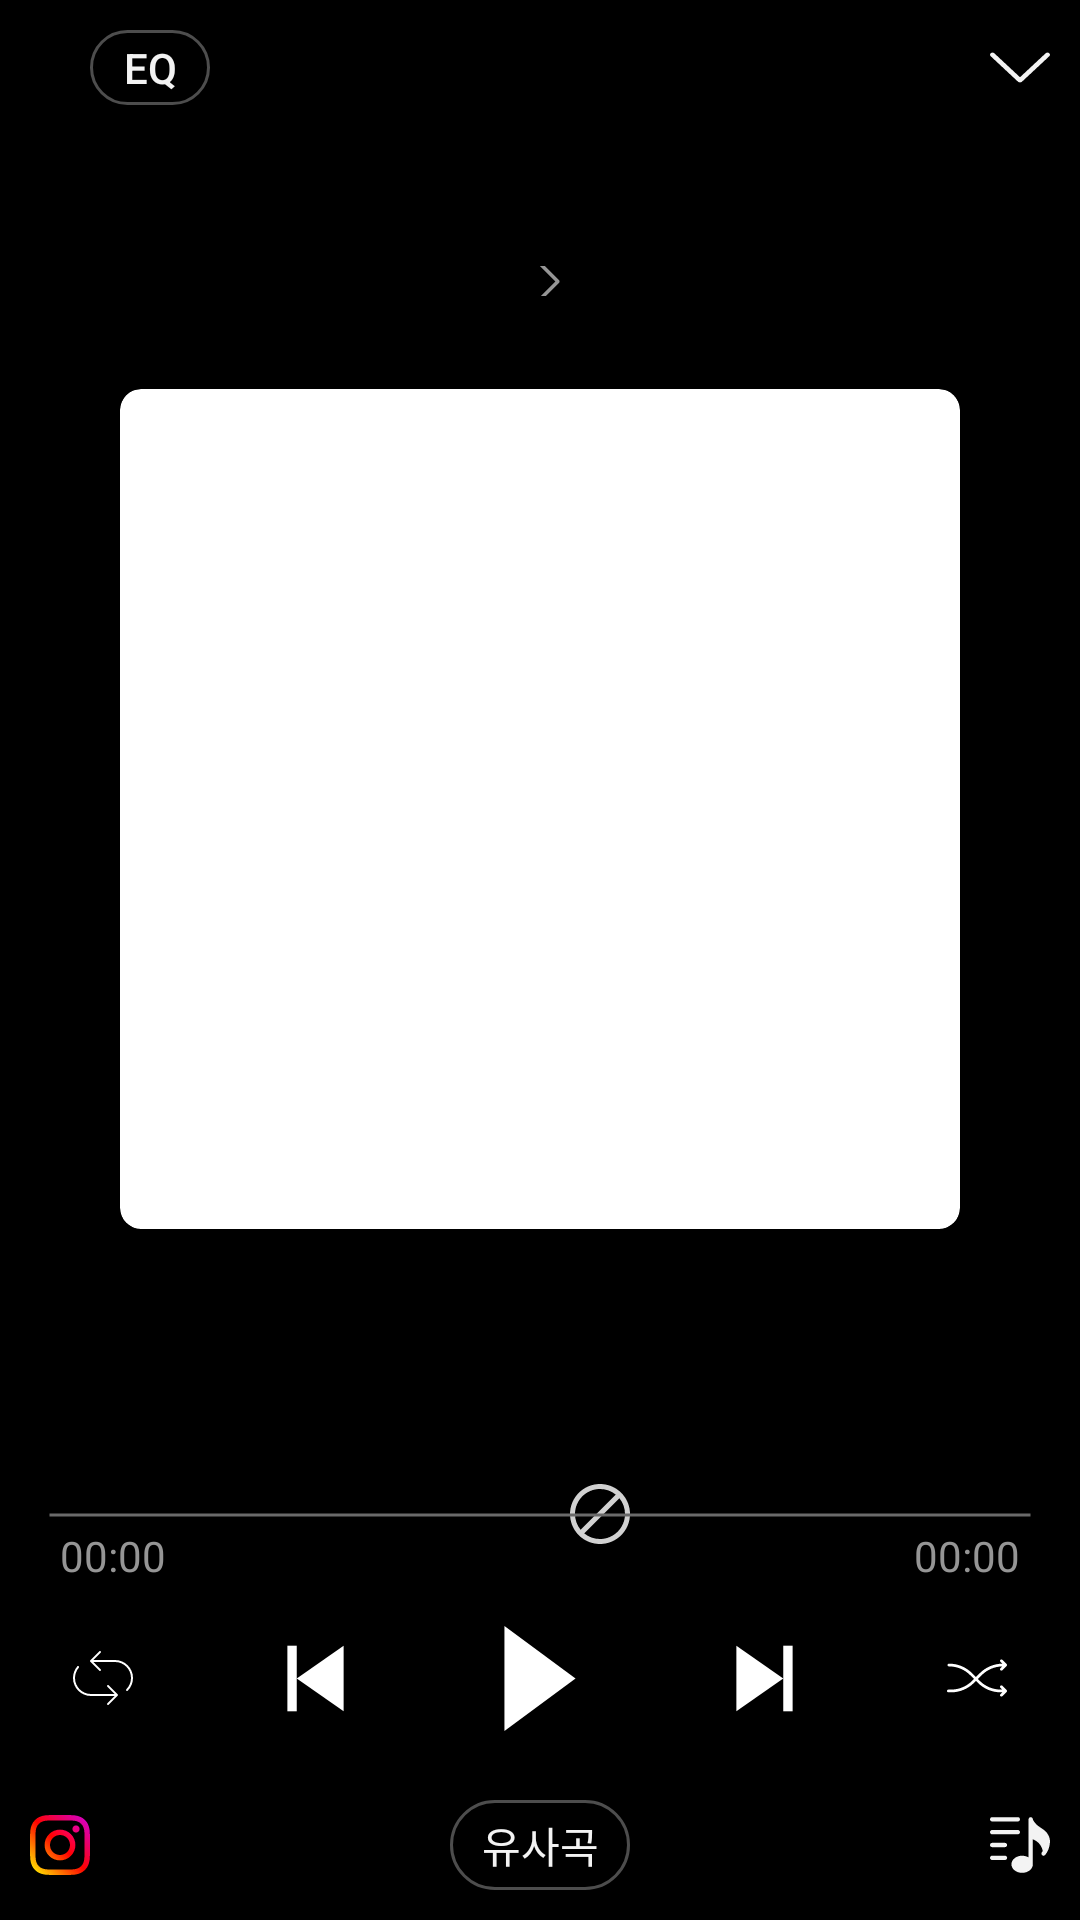

Icons on this 1080px x 1920px Android screen, each with its box as {"left": x1, "top": y1, "right": x2, "bottom": y2}:
down arrow: {"left": 990, "top": 52, "right": 1050, "bottom": 83}
next arrow: {"left": 540, "top": 266, "right": 560, "bottom": 296}
play: {"left": 504, "top": 1626, "right": 576, "bottom": 1731}
playlist: {"left": 990, "top": 1817, "right": 1050, "bottom": 1873}
previous track: {"left": 287, "top": 1645, "right": 344, "bottom": 1712}
repeat: {"left": 73, "top": 1651, "right": 133, "bottom": 1705}
shuffle arrows: {"left": 947, "top": 1659, "right": 1007, "bottom": 1697}
skip track: {"left": 736, "top": 1645, "right": 793, "bottom": 1712}
